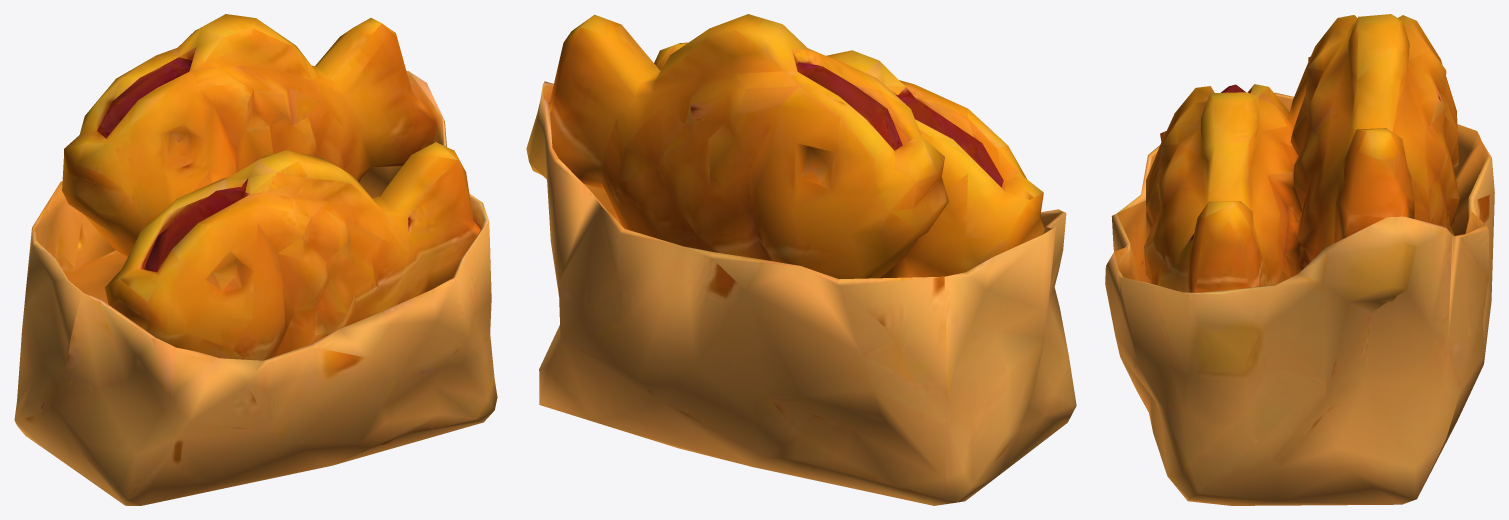
The picture shows the model from 3 angles, left to right: view 1: azimuth 30°, elevation 25°; view 2: azimuth 150°, elevation 25°; view 3: azimuth 270°, elevation 25°; orthographic projection. The views are drawn at different scales.
Visible parts, largest first — view 1: bungeoppang; view 2: bungeoppang; view 3: bungeoppang.
Part boxes in pixels (<box>): bungeoppang: <box>14,14,497,505</box>; bungeoppang: <box>526,14,1076,505</box>; bungeoppang: <box>1105,14,1494,505</box>.
Size of the model in its own units: 0.1817 by 0.1597 by 0.1404.
1 material, 1 textured.
